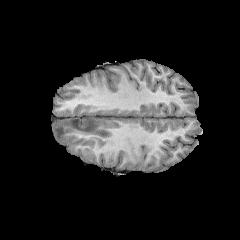glioma: (53, 118, 112, 141)
